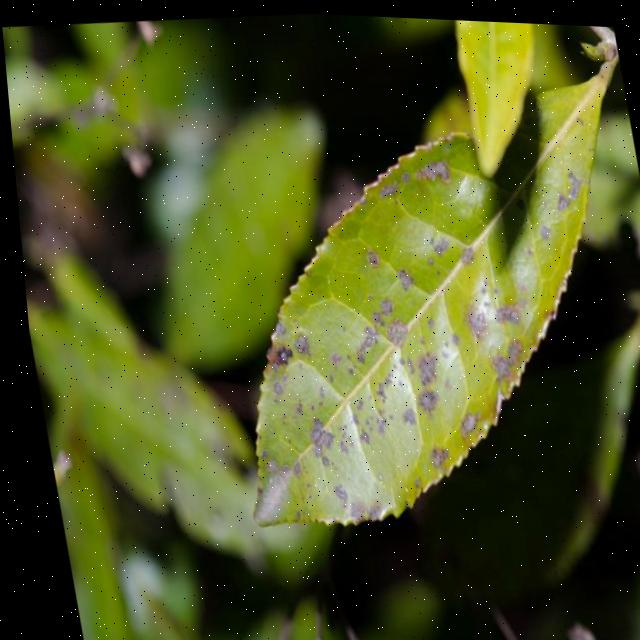Tea red rust: (191, 113, 616, 497)
